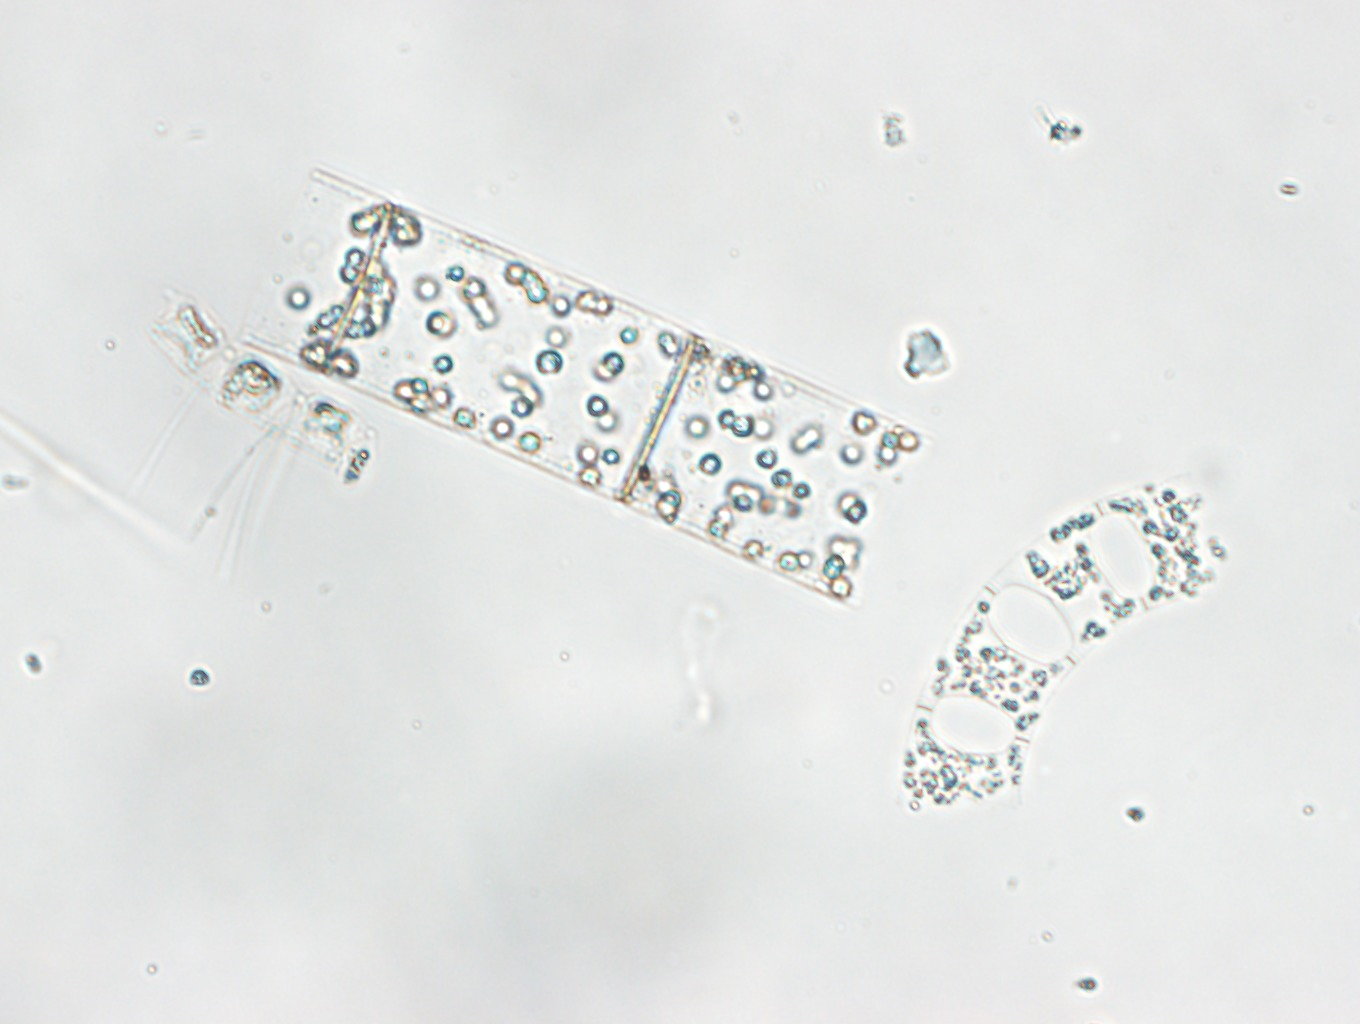chaetoceros: (121, 294, 382, 578)
eucampia: (899, 467, 1230, 819)
guinardia flaccida: (238, 163, 930, 611)
